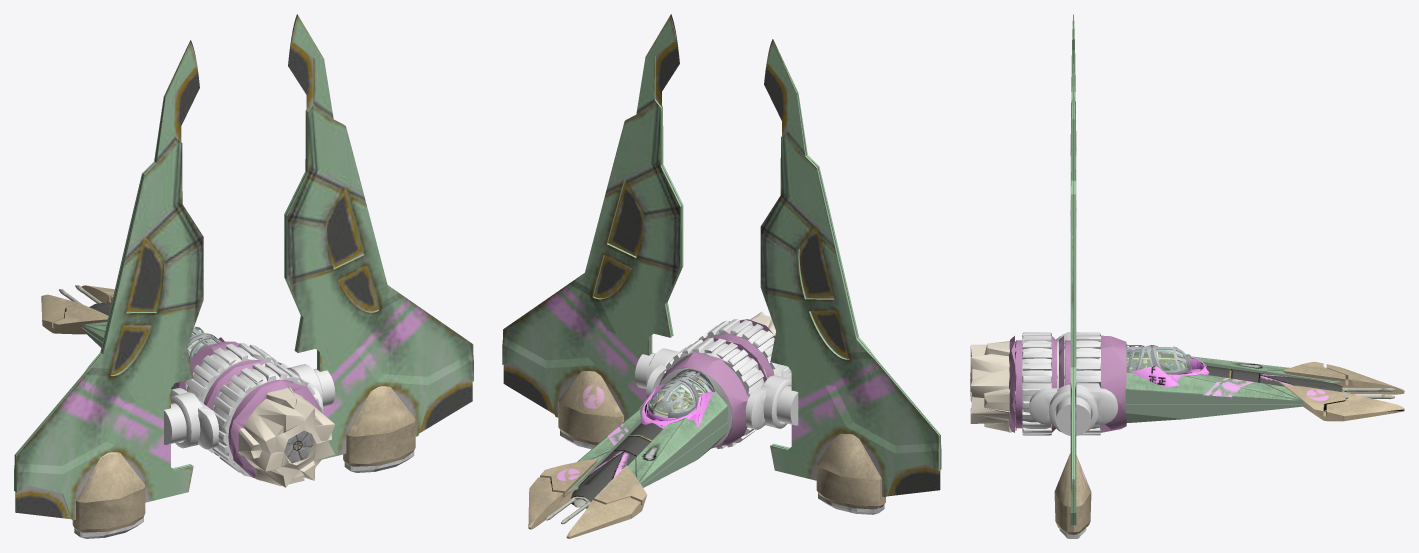
File: sw_mandalorian_gauntlet.glb
The picture shows the model from 3 angles, left to right: view 1: azimuth 30°, elevation 25°; view 2: azimuth 150°, elevation 25°; view 3: azimuth 270°, elevation 25°; orthographic projection. The views are drawn at different scales.
Visible parts, largest first — view 1: Object_56, Object_60, Object_54, Object_4, Object_37, Object_28, Object_64, Object_58; view 2: Object_56, Object_60, Object_54, Object_4, Object_68, Object_64, Object_28, Object_70, Object_66, Object_25, Object_22, Object_50 (+2 smaller); view 3: Object_4, Object_68, Object_64, Object_28, Object_37, Object_56, Object_54, Object_66, Object_70, Object_25, Object_22, Object_50 (+1 smaller).
Boxes of the visible parts, left/top/right/bottom form: Object_56: left=14, top=16, right=473, bottom=520; Object_60: left=15, top=14, right=472, bottom=519; Object_54: left=72, top=386, right=415, bottom=532; Object_4: left=164, top=343, right=335, bottom=477; Object_37: left=238, top=387, right=334, bottom=487; Object_28: left=175, top=341, right=321, bottom=478; Object_64: left=41, top=285, right=114, bottom=334; Object_58: left=74, top=450, right=414, bottom=538; Object_56: left=502, top=16, right=941, bottom=497; Object_60: left=503, top=14, right=940, bottom=496; Object_54: left=558, top=371, right=885, bottom=509; Object_4: left=634, top=319, right=798, bottom=448; Object_68: left=563, top=384, right=728, bottom=494; Object_64: left=528, top=458, right=646, bottom=538; Object_28: left=659, top=319, right=775, bottom=448; Object_70: left=571, top=423, right=662, bottom=501; Object_66: left=545, top=384, right=714, bottom=524; Object_25: left=648, top=371, right=712, bottom=418; Object_22: left=648, top=368, right=714, bottom=417; Object_50: left=652, top=373, right=710, bottom=416; Object_4: left=1022, top=332, right=1118, bottom=435; Object_68: left=1125, top=352, right=1341, bottom=422; Object_64: left=1283, top=361, right=1404, bottom=421; Object_28: left=1009, top=335, right=1126, bottom=432; Object_37: left=970, top=341, right=1016, bottom=431; Object_56: left=1070, top=15, right=1076, bottom=525; Object_54: left=1054, top=453, right=1091, bottom=534; Object_66: left=1130, top=345, right=1394, bottom=399; Object_70: left=1206, top=366, right=1342, bottom=391; Object_25: left=1008, top=345, right=1187, bottom=432; Object_22: left=1125, top=344, right=1190, bottom=374; Object_50: left=1127, top=350, right=1184, bottom=370.
Size of the model in its own units: 1.46 by 1.43 by 1.31.
50 materials, 15 textured.
